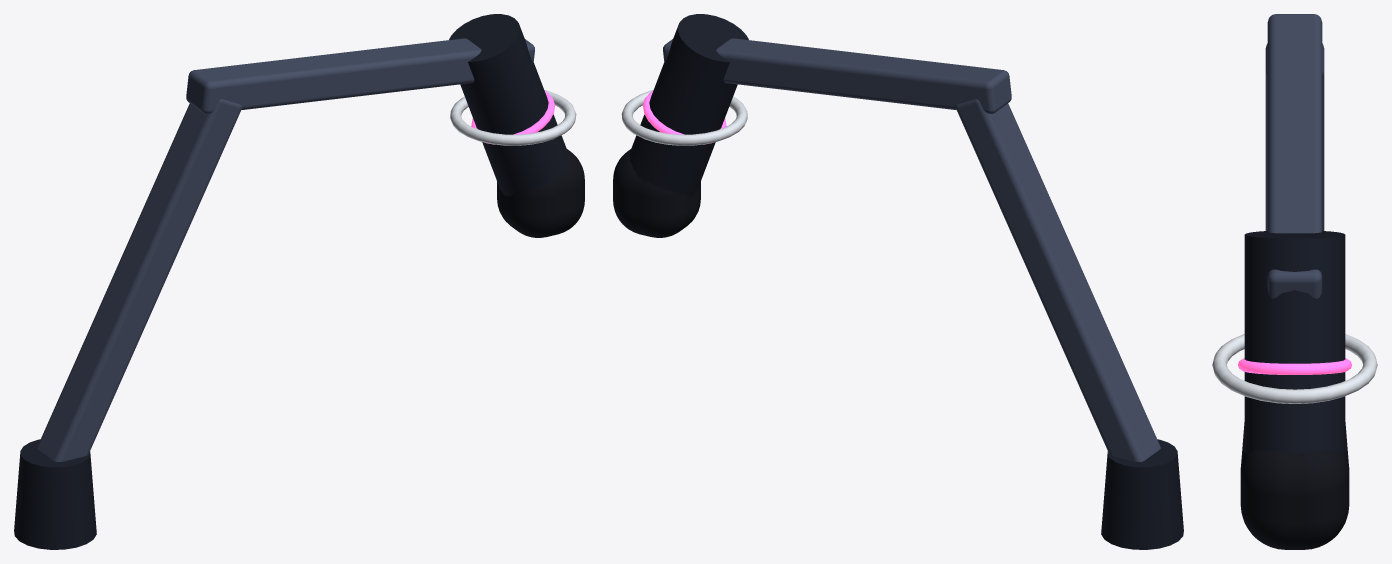
File: atelier-gaming-microphone-cyber.glb
The picture shows the model from 3 angles, left to right: view 1: azimuth 30°, elevation 25°; view 2: azimuth 150°, elevation 25°; view 3: azimuth 270°, elevation 25°; orthographic projection. The views are drawn at different scales.
Bounding box in the file's own units: 0.402 × 0.2898 × 0.079.
